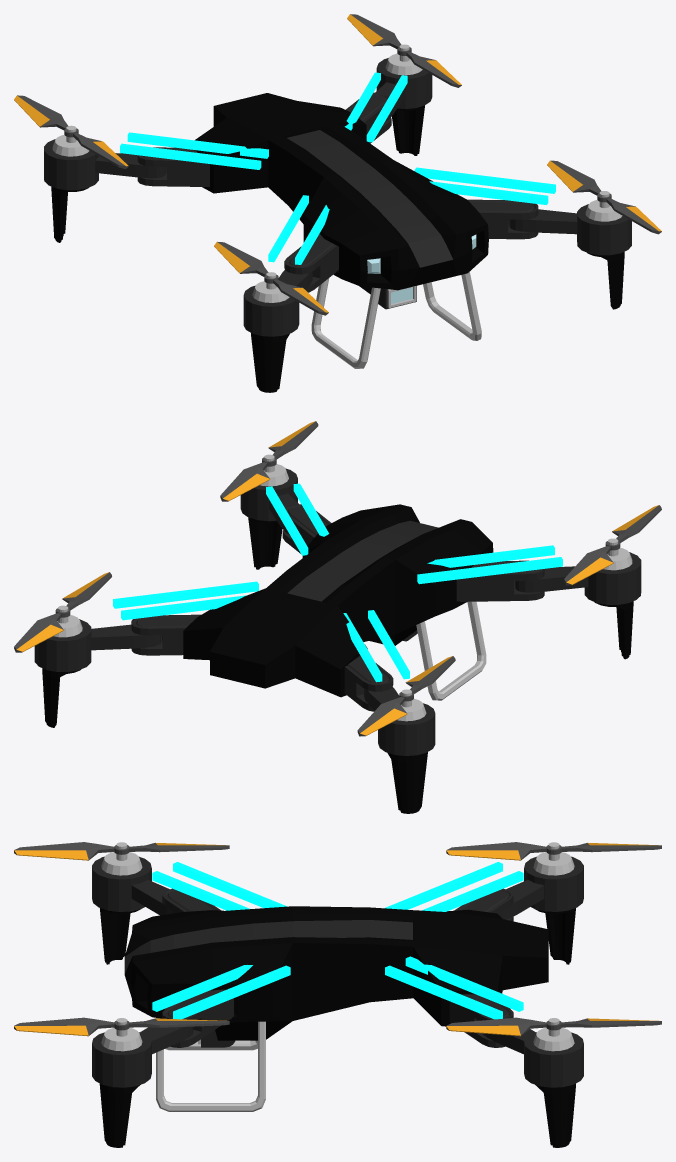
File: drone_emissive.glb
The picture shows the model from 3 angles, top to bottom: view 1: azimuth 30°, elevation 25°; view 2: azimuth 150°, elevation 25°; view 3: azimuth 270°, elevation 25°; orthographic projection. The views are drawn at different scales.
Visible parts, largest first — view 1: Body, Rotor_FL, Rotor_BL, Rotor_BR, Rotor_FR, LED_BR_R, LED_BR_L, LED_FL_R, LED_FL_L, LED_BL_L, LED_FR_L, Cube.002 (+2 smaller); view 2: Body, Rotor_FR, Rotor_BL, Rotor_FL, Rotor_BR, LED_FR_L, LED_BL_L, LED_FR_R, LED_BL_R, LED_FL_R, LED_BR_R, LED_BR_L (+1 smaller); view 3: Body, Rotor_FL, Rotor_BL, Rotor_FR, Rotor_BR, LED_FL_R, LED_BL_L, LED_BL_R, LED_BR_R, LED_FR_L, LED_FL_L, LED_BR_L (+1 smaller).
Boxes of the visible parts, <box> form: Body: <box>44,44,631,392</box>; Rotor_FL: <box>547,160,661,234</box>; Rotor_BL: <box>347,14,461,87</box>; Rotor_BR: <box>14,95,128,169</box>; Rotor_FR: <box>214,241,328,315</box>; LED_BR_R: <box>120,143,261,169</box>; LED_BR_L: <box>127,132,268,158</box>; LED_FL_R: <box>414,167,555,193</box>; LED_FL_L: <box>429,181,548,204</box>; LED_BL_L: <box>366,75,407,142</box>; LED_FR_L: <box>268,195,308,262</box>; Cube.002: <box>378,285,416,309</box>; Body: <box>34,454,641,813</box>; Rotor_FR: <box>564,505,661,585</box>; Rotor_BL: <box>14,572,111,652</box>; Rotor_FL: <box>220,421,318,501</box>; Rotor_BR: <box>357,656,455,736</box>; LED_FR_L: <box>417,557,562,584</box>; LED_BL_L: <box>113,581,258,608</box>; LED_FR_R: <box>427,545,554,567</box>; LED_BL_R: <box>121,595,246,620</box>; LED_FL_R: <box>266,486,308,555</box>; LED_BR_R: <box>368,610,409,679</box>; LED_BR_L: <box>343,613,382,682</box>; Body: <box>92,842,583,1147</box>; Rotor_FL: <box>14,1017,229,1036</box>; Rotor_BL: <box>446,1017,661,1036</box>; Rotor_FR: <box>14,842,229,860</box>; Rotor_BR: <box>446,842,661,860</box>; LED_FL_R: <box>173,965,290,1019</box>; LED_BL_L: <box>385,965,502,1019</box>; LED_BL_R: <box>405,956,523,1011</box>; LED_BR_R: <box>385,862,502,909</box>; LED_FR_L: <box>173,862,287,908</box>; LED_FL_L: <box>152,965,252,1011</box>; LED_BR_L: <box>422,871,523,911</box>.
Bounding box in the file's own units: 0.5736 × 0.2076 × 0.7813.
Materials: 2 (1 with a texture image).
